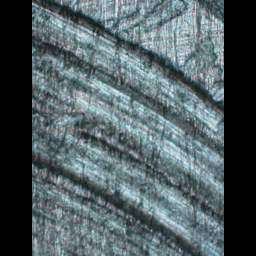d: (32, 4, 221, 255)
